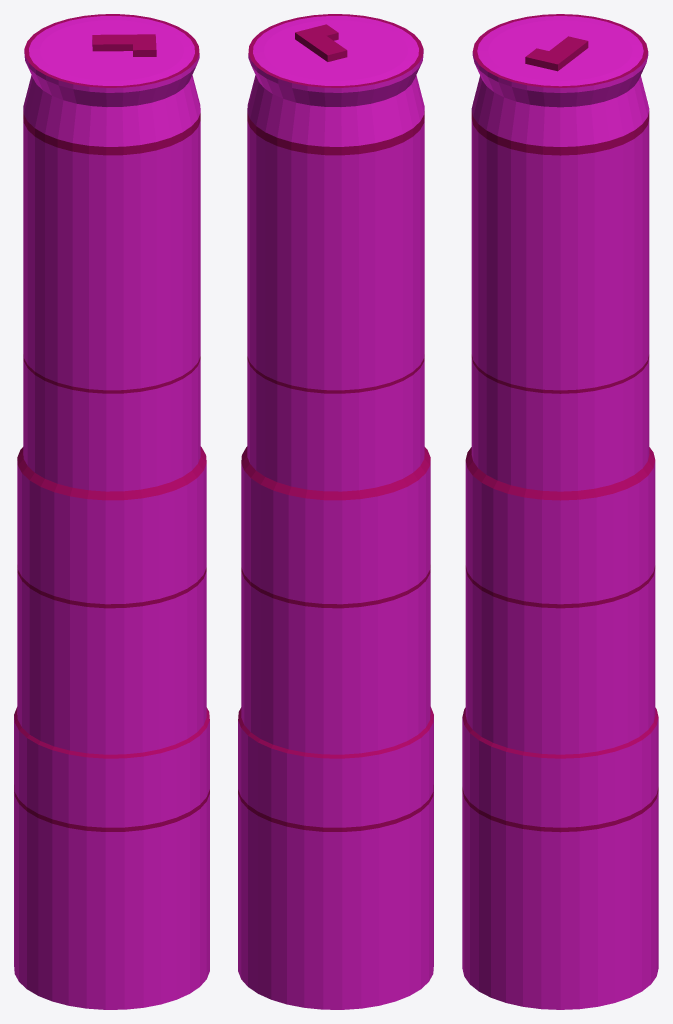
File: AlienStructureTower.dae
3 renders of one model, left to right at view 1: azimuth 30°, elevation 25°; view 2: azimuth 150°, elevation 25°; view 3: azimuth 270°, elevation 25°, orthographic.
Visible parts, largest first — view 1: Cylinder; view 2: Cylinder; view 3: Cylinder.
Part boxes in pixels (x1,y1,x2,y2): Cylinder: (14, 14, 209, 1009); Cylinder: (238, 14, 433, 1009); Cylinder: (462, 14, 658, 1009).
Bounding box in the file's own units: 2.21 × 2.21 × 11.47.
